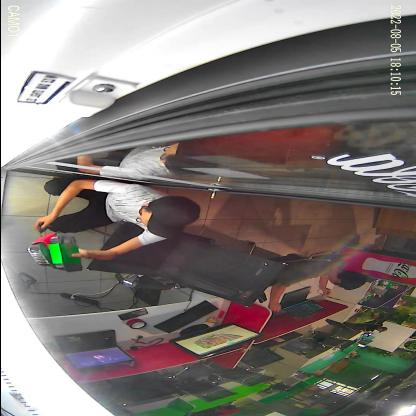green: (48, 232, 82, 272)
red: (25, 232, 61, 266)
